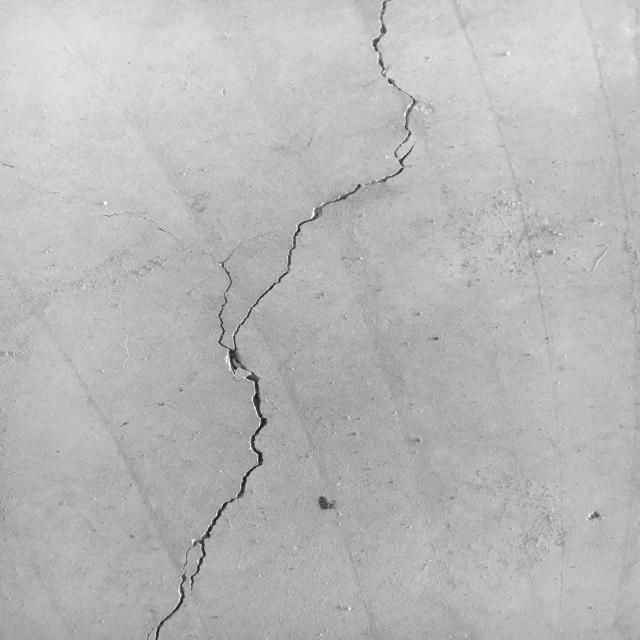SurfaceCrack: (105, 0, 448, 639)
